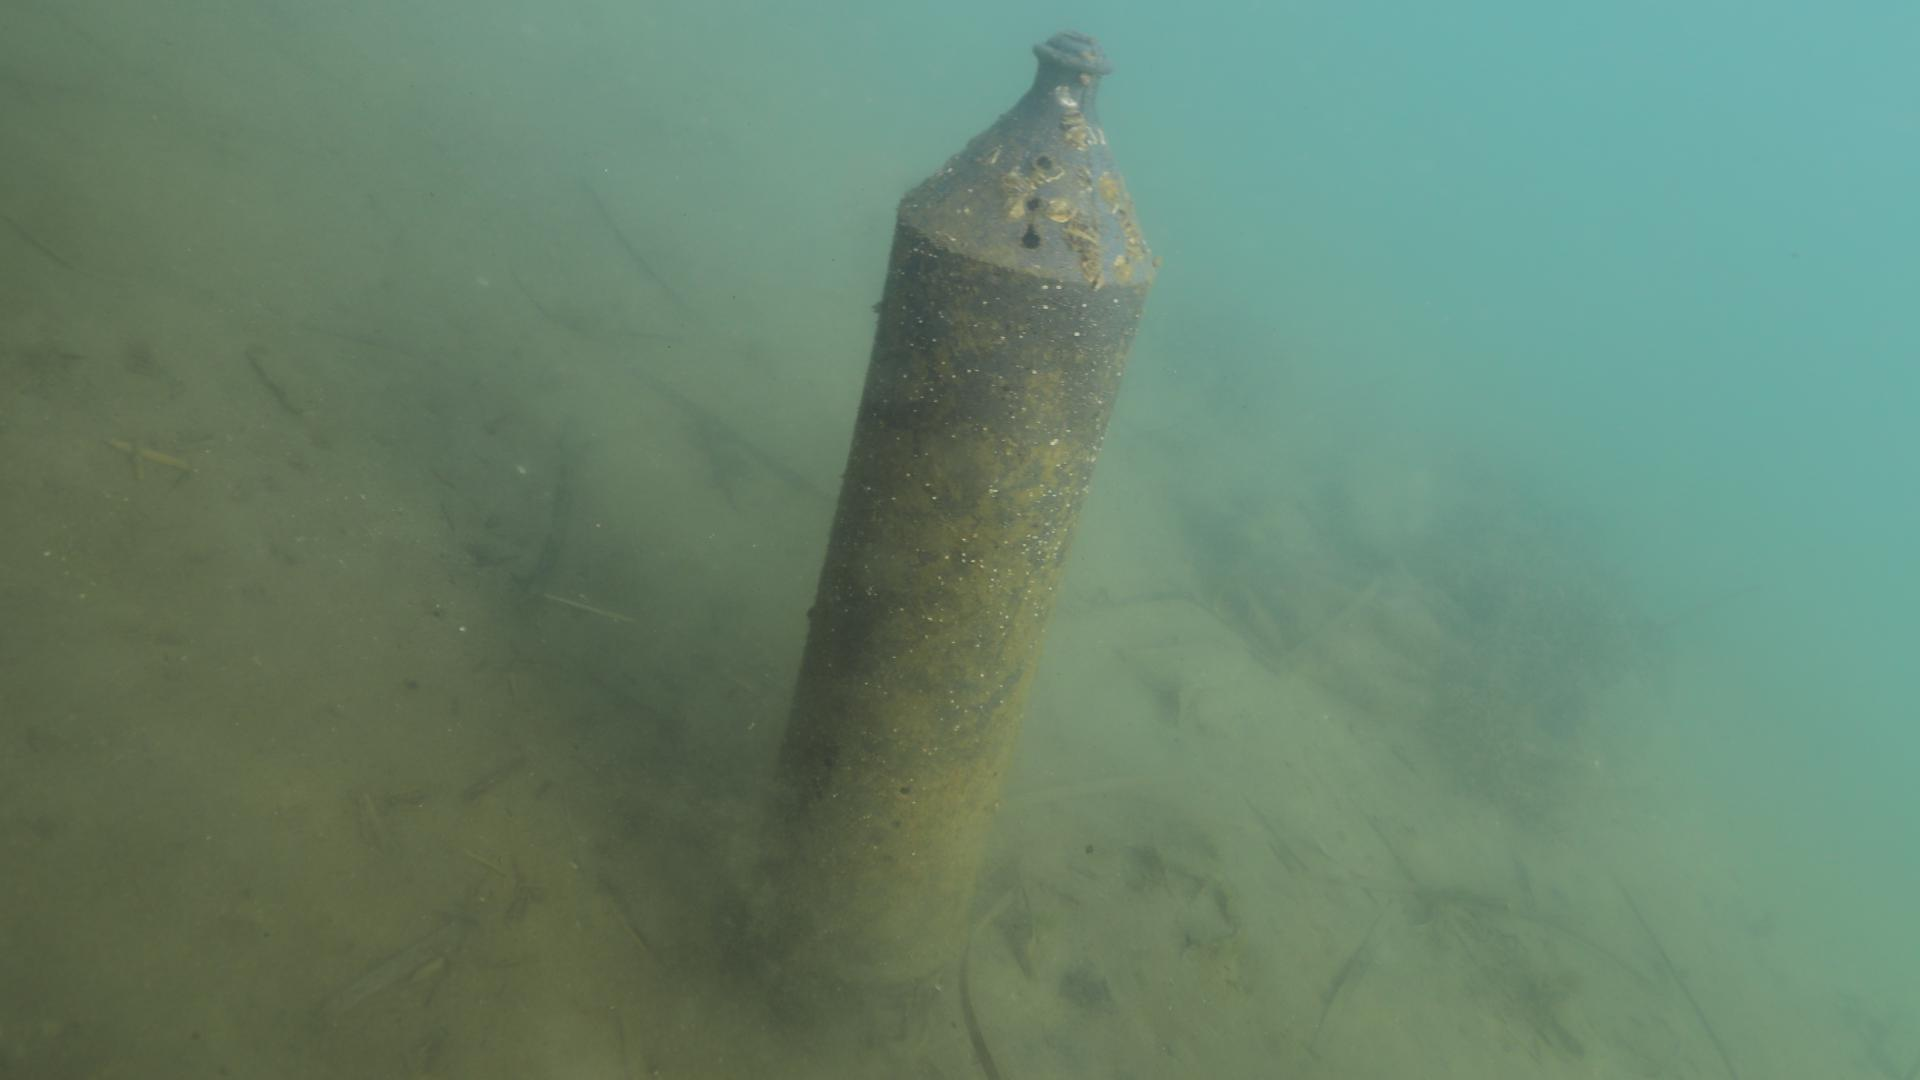eel fish trap: (733, 28, 1155, 994)
